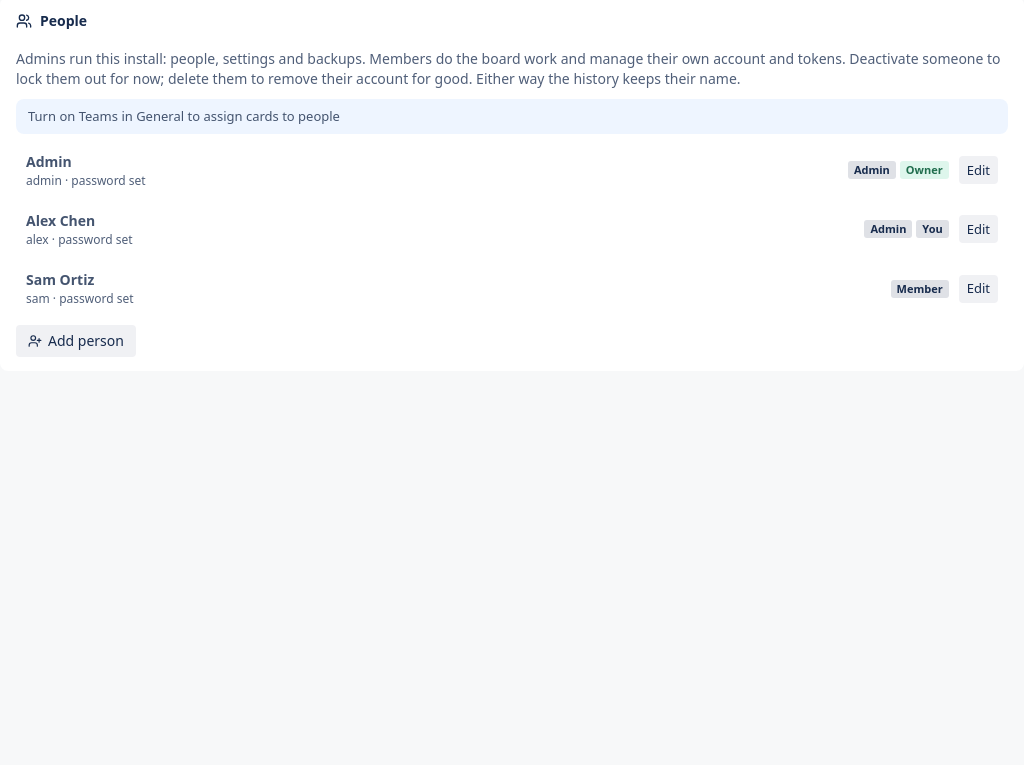
Scenario: PeopleSection › offers no delete for the owner, yourself or the last active admin
The image size is (1024, 765).
Click the button "Edit" next to "Owner" at point(978, 170), box 959,156 -> 998,184
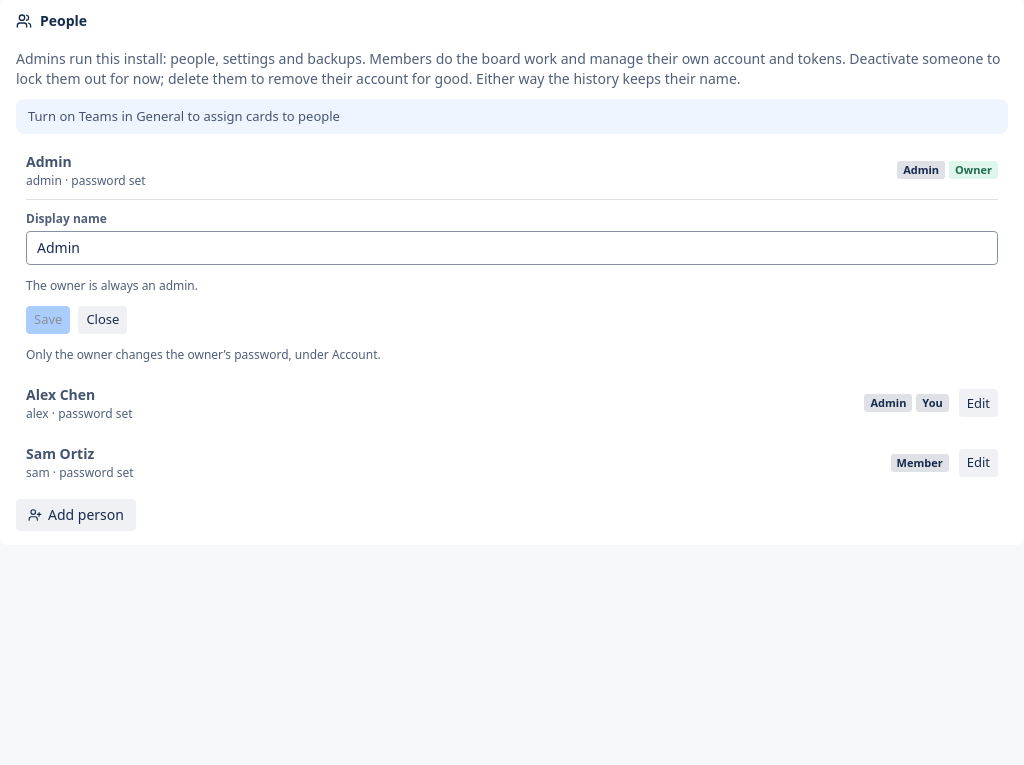
Expected: the button "Delete" is not shown
Click the button "Close" at point(103, 320), box 78,306 -> 127,334
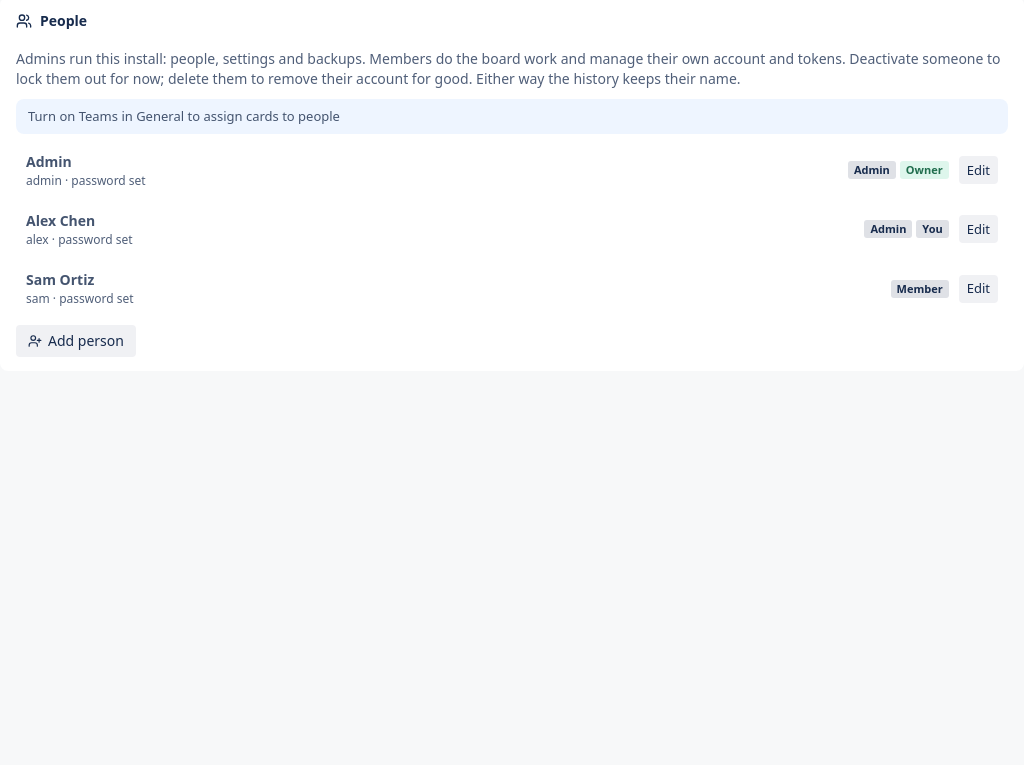
Click the button "Edit" next to "You" at point(978, 229), box 959,215 -> 998,243
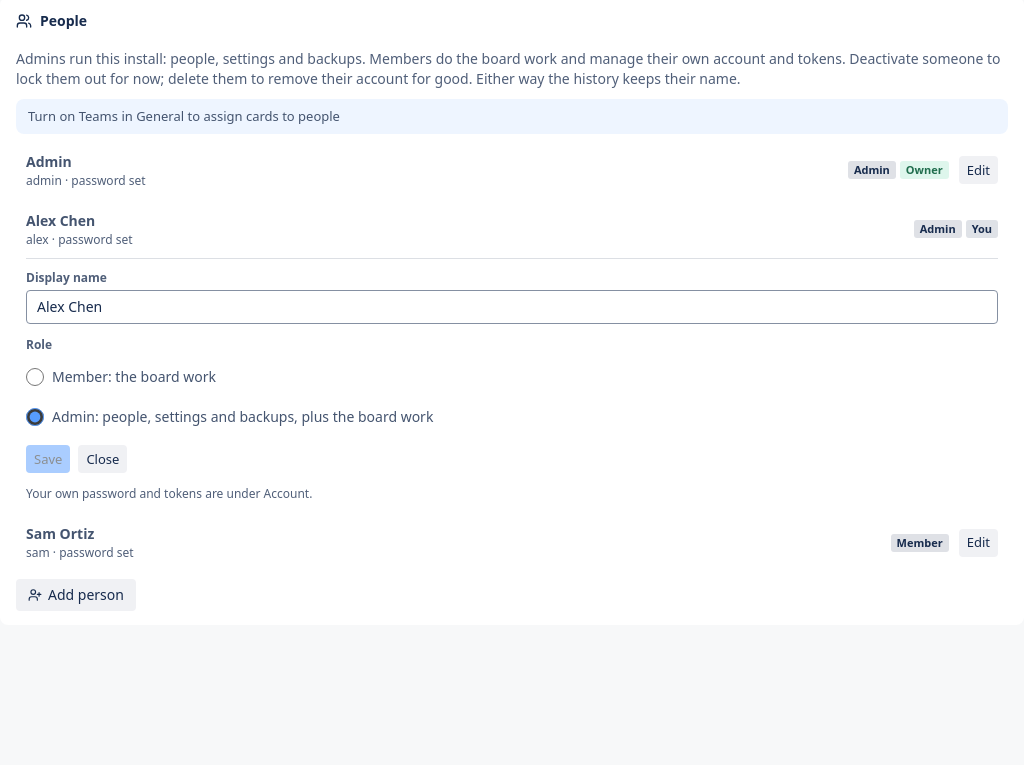
Expected: the button "Delete" is not shown
Click the button "Close" at point(103, 459), box 78,445 -> 127,473
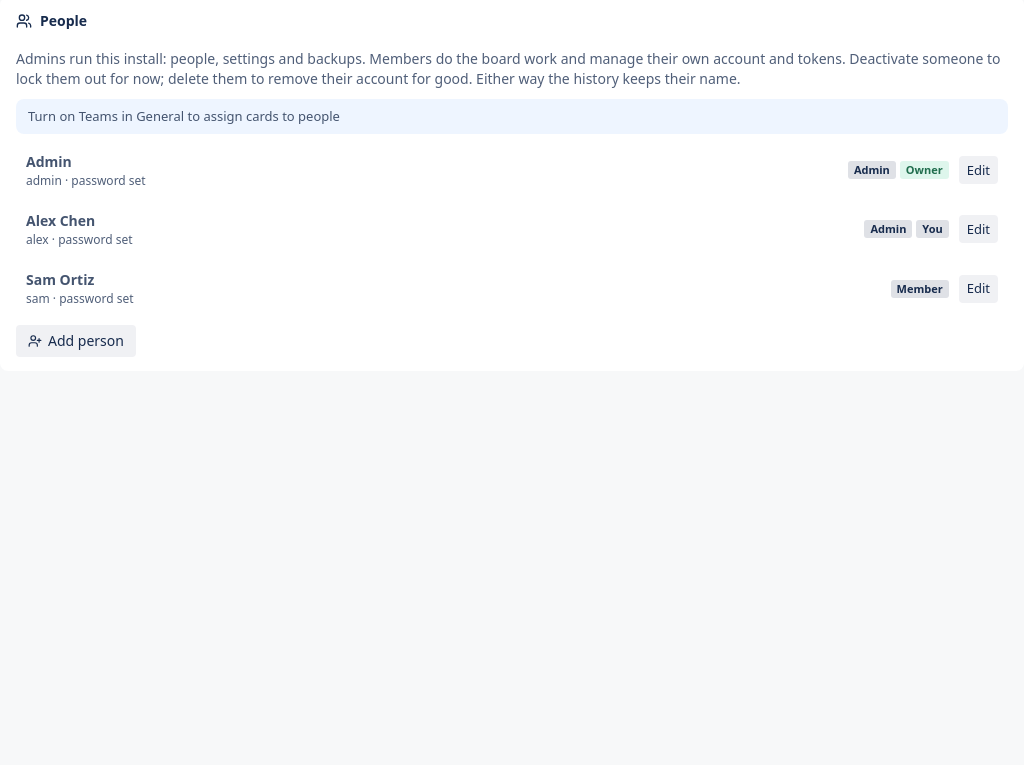
Click the button "Edit" in the row of "Sam Ortiz" at point(978, 288), box 959,274 -> 998,302
(page scrolled)
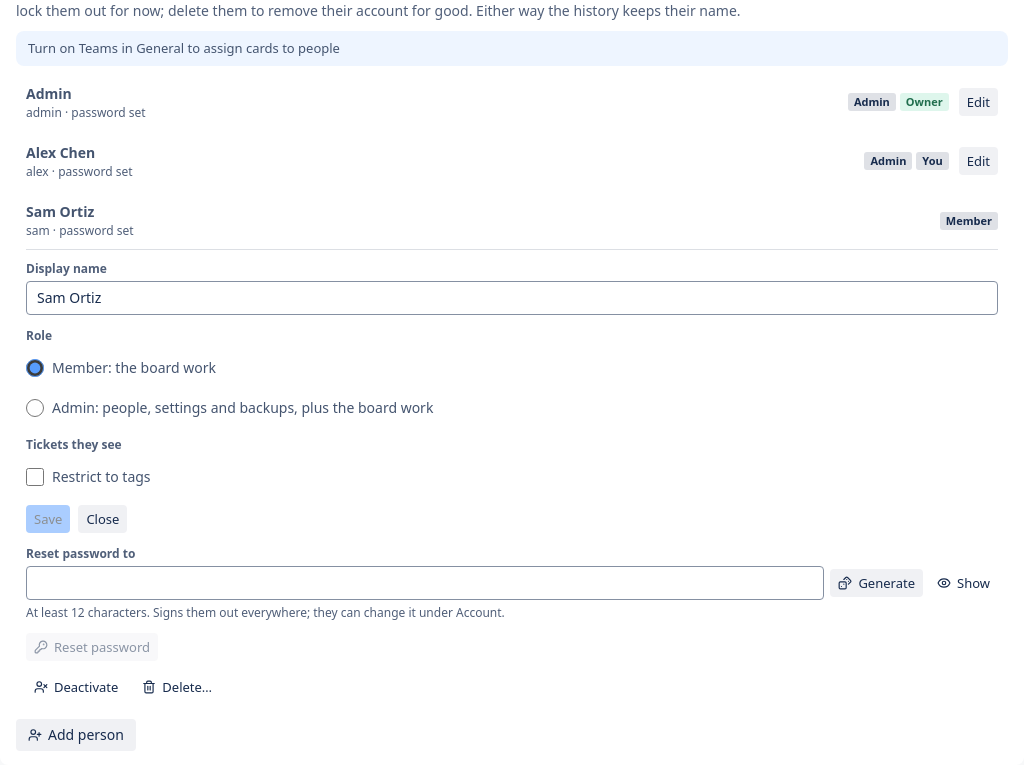
Expected: the button "Delete…" is shown, 134,673 -> 220,701
